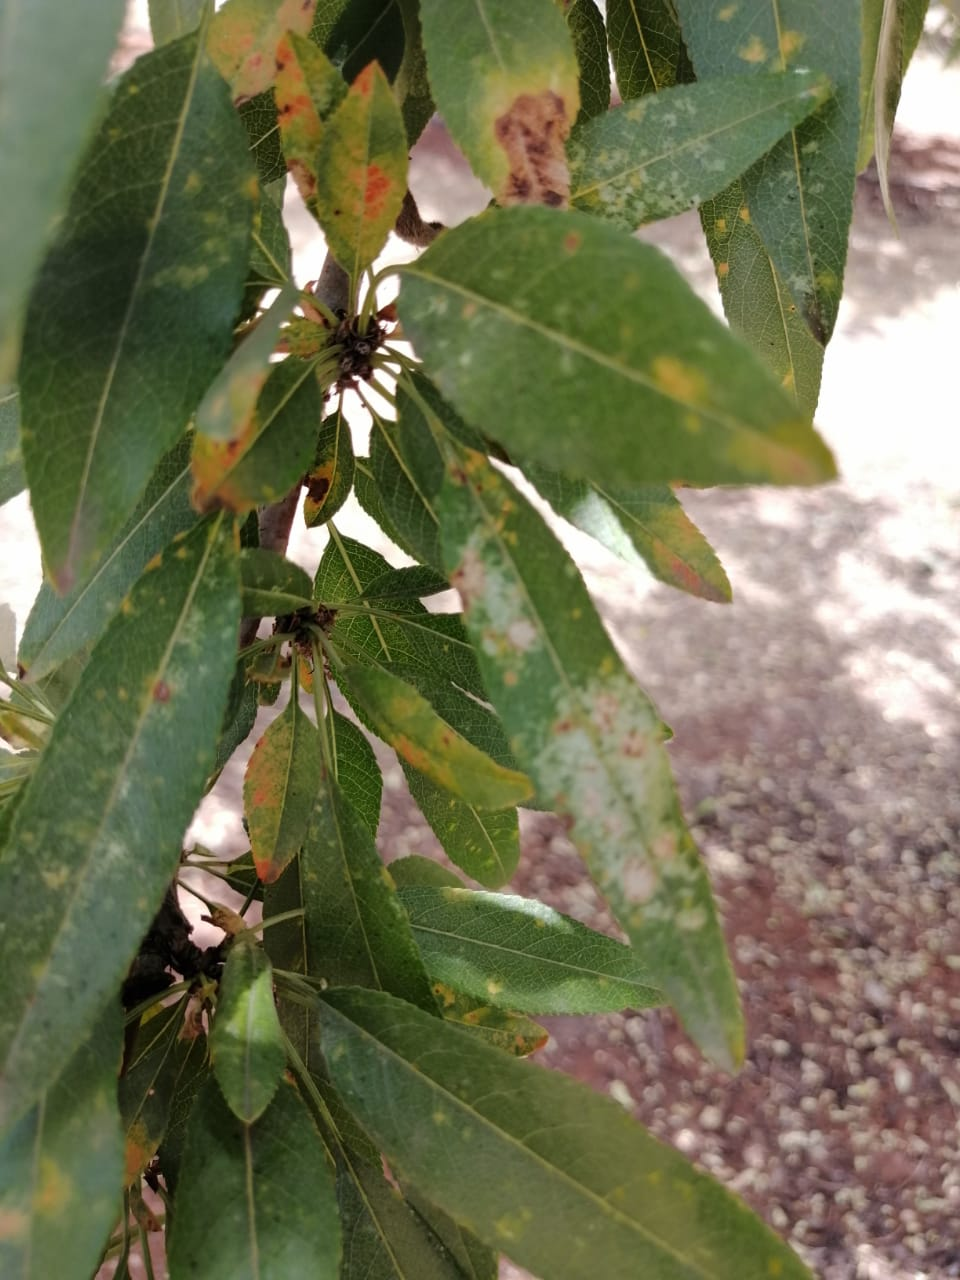faux tigre: (438, 438, 742, 1060), (1, 506, 244, 1150), (396, 206, 842, 490)
